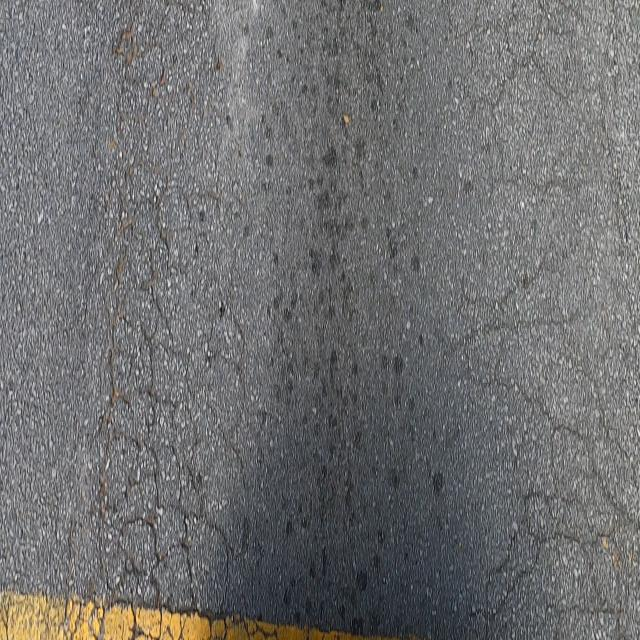Retak-Buaya: (438, 0, 640, 640), (73, 0, 265, 640)
